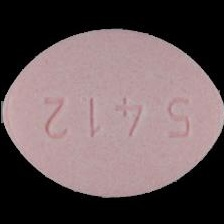42852-003: (0, 0, 224, 224)
